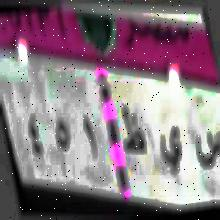1: (82, 111, 98, 162)
4: (28, 113, 44, 161)
5: (54, 113, 73, 162)
Thaa: (120, 105, 145, 160)
seen: (195, 126, 220, 176)
yaa: (158, 120, 184, 182)
